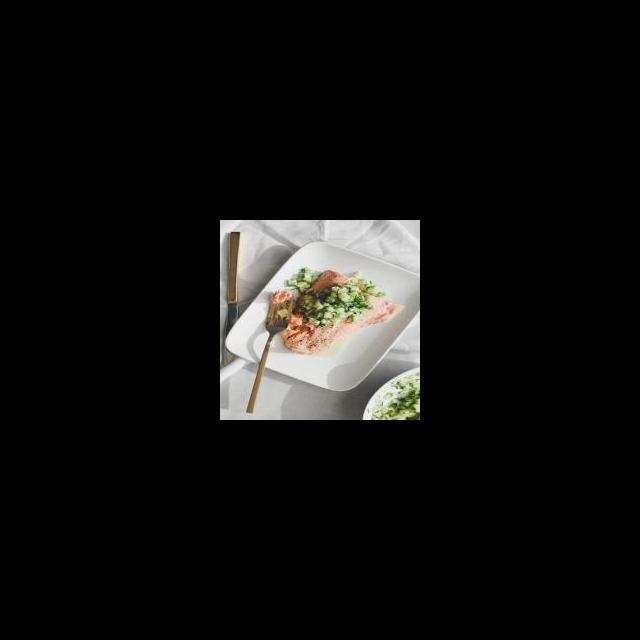ca hoi: (278, 272, 402, 364)
